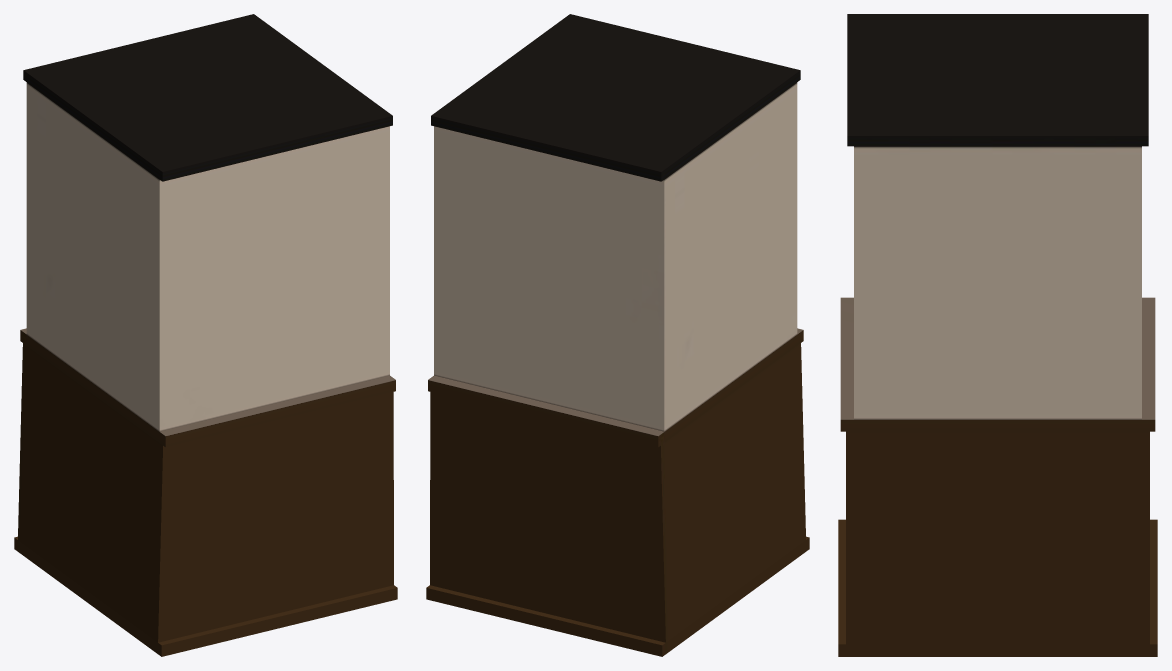
File: mur_middle.fbx
The picture shows the model from 3 angles, left to right: view 1: azimuth 30°, elevation 25°; view 2: azimuth 150°, elevation 25°; view 3: azimuth 270°, elevation 25°; orthographic projection. The views are drawn at different scales.
Visible parts, largest first — view 1: pCube7; view 2: pCube7; view 3: pCube7.
Part boxes in pixels (x1=…): pCube7: x1=14, y1=14, x2=397, y2=656; pCube7: x1=426, y1=14, x2=809, y2=656; pCube7: x1=838, y1=14, x2=1157, y2=656.
Size of the model in its own units: 1.02 by 1.99 by 1.11.
